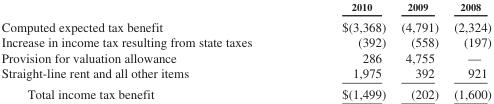table: (0, 0, 490, 100)
table column: (0, 0, 296, 100), (296, 0, 392, 100), (392, 0, 445, 100), (445, 0, 490, 100)
table column header: (0, 0, 490, 15)
table row: (0, 15, 490, 34), (0, 65, 490, 83), (0, 83, 490, 100), (0, 49, 490, 65), (0, 0, 490, 15), (0, 34, 490, 49)
